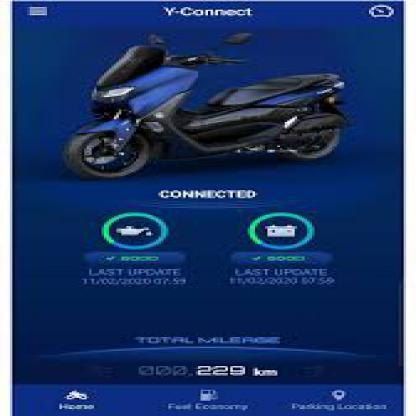Motorcycle: (55, 23, 367, 176)
